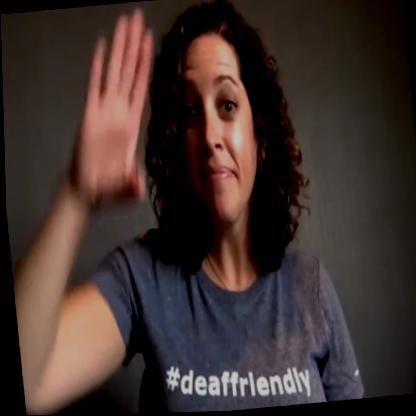Hello: (69, 0, 300, 279)
